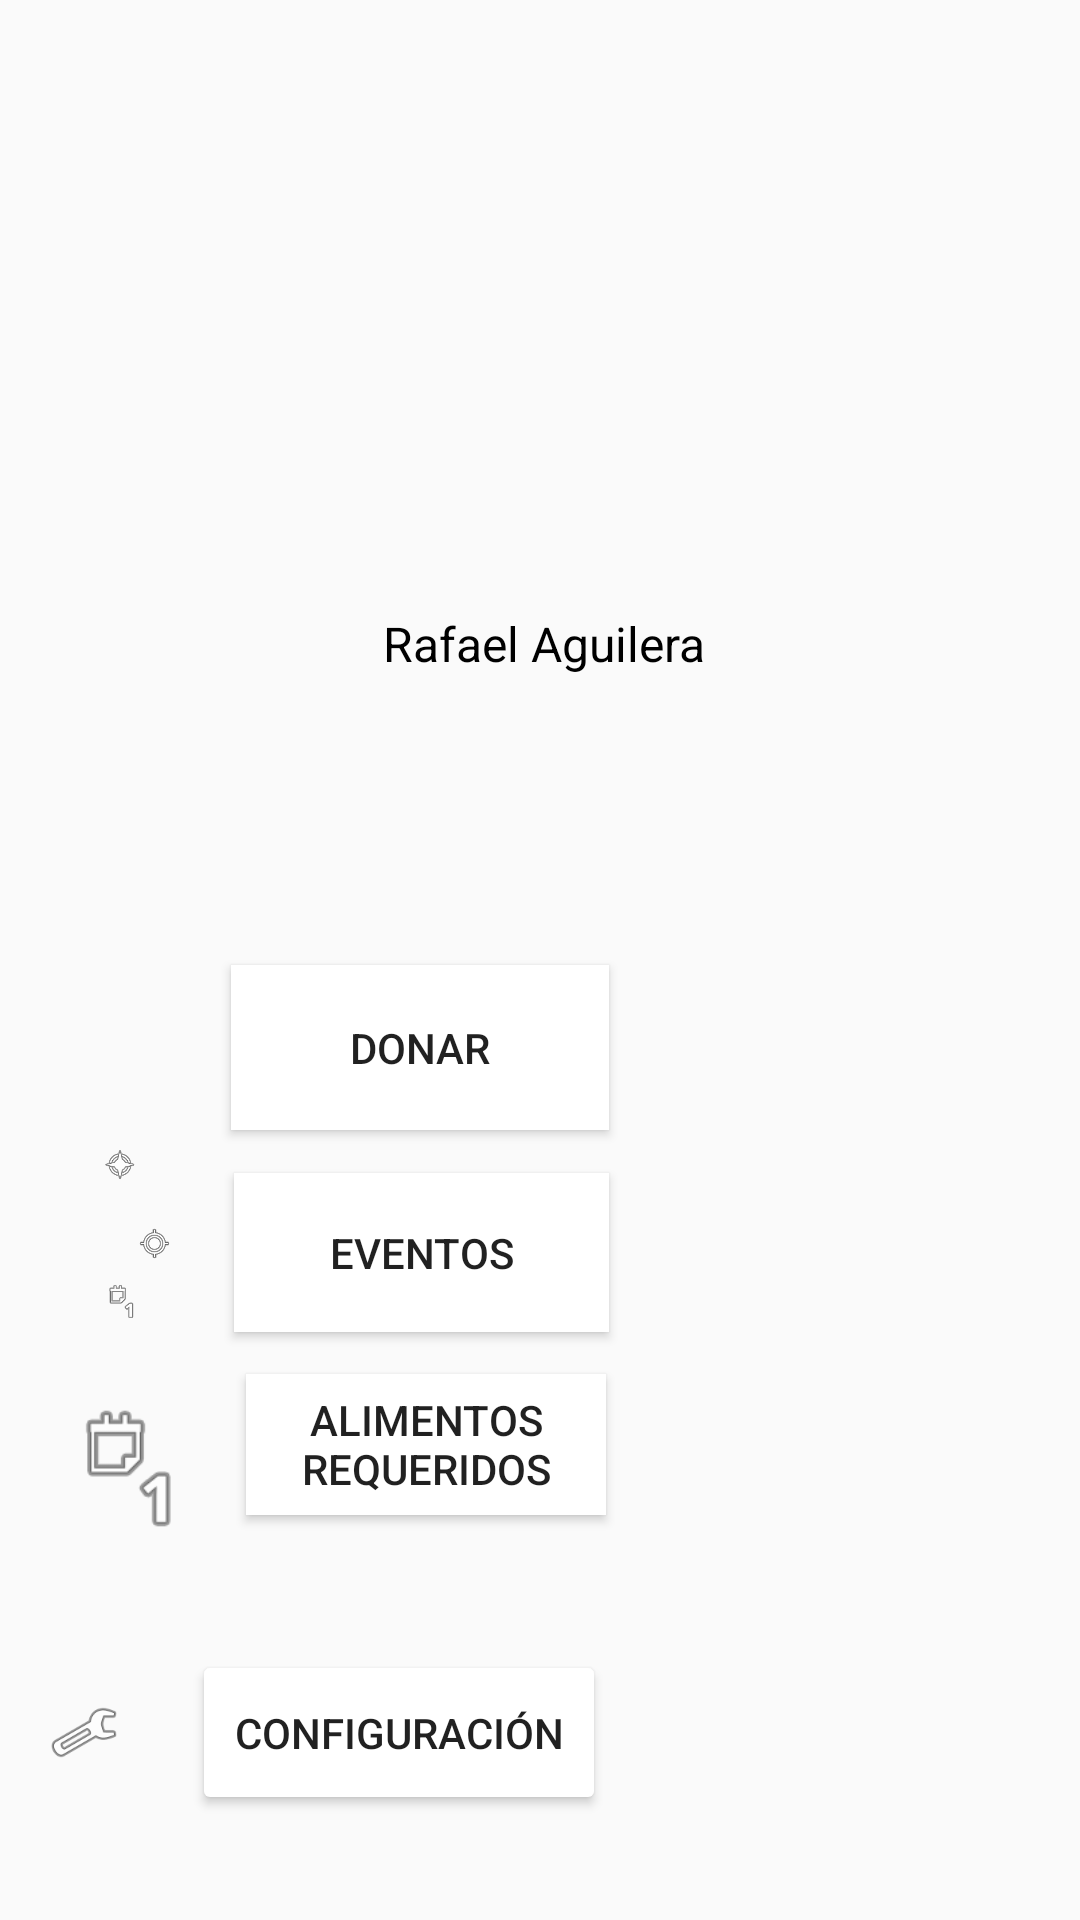

Point at icon controls on the screen. Image size 1080×1920, points as (x,y).
compass: (119,1164)
day: (121,1301), (128,1468)
mylocation: (154,1243)
preferences: (83,1732)
